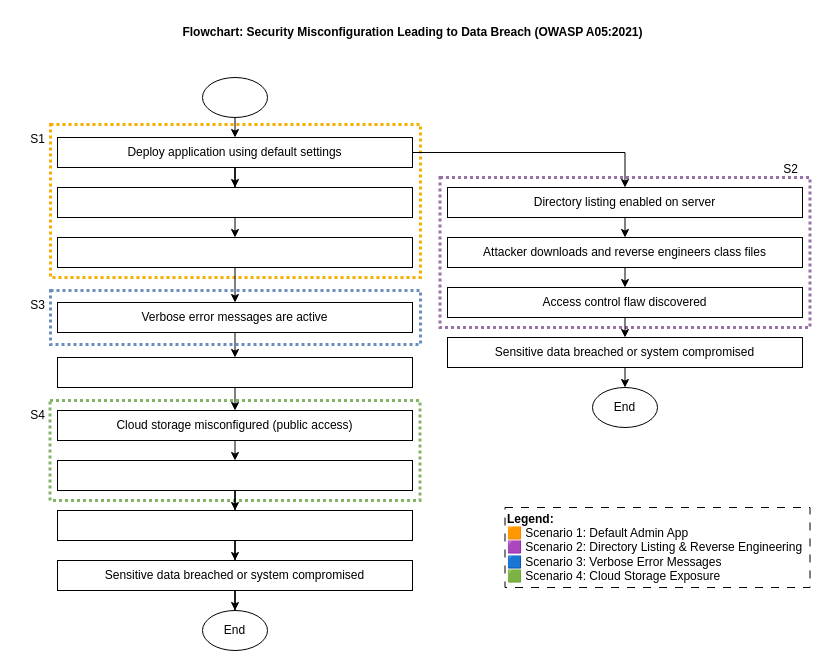
Some shapes in this 828 by 668 pixel diagram are drawn without their labels. Each missing label, with the centre of its shape:
Admin panel publicly accessible: pixel 234 202
Attacker exploits the weaknesses: pixel 234 525
Attacker scans and detects misconfiguration: pixel 234 475
Default credentials retained: pixel 234 252
Missing HTTP security headers: pixel 234 372
Start: pixel 235 97
